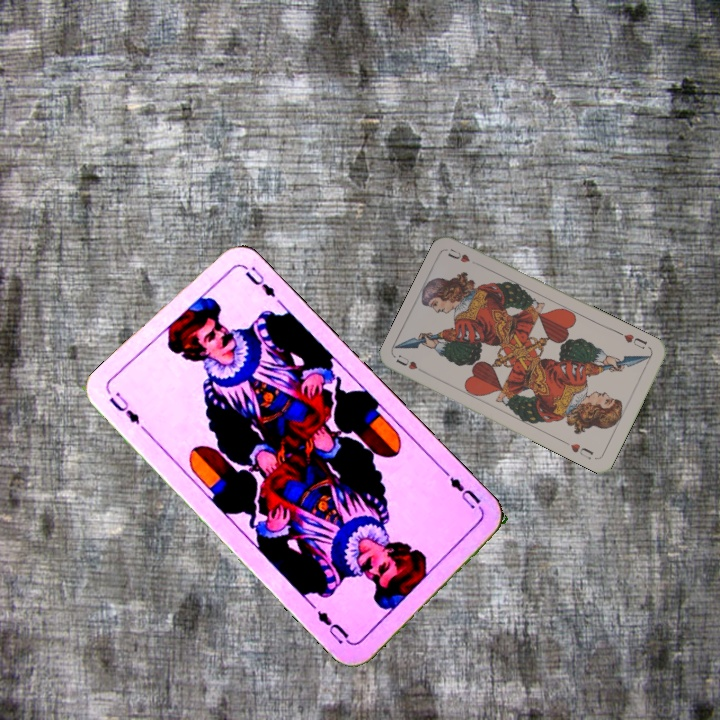EU: (441, 467, 486, 516), (104, 388, 143, 428)
HU: (392, 351, 430, 377), (620, 330, 650, 352)
